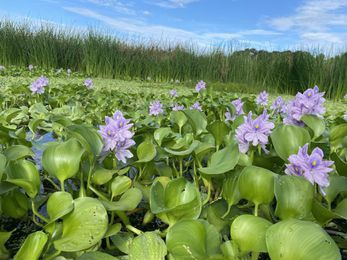water_hyacinth: (40, 116, 340, 260)
